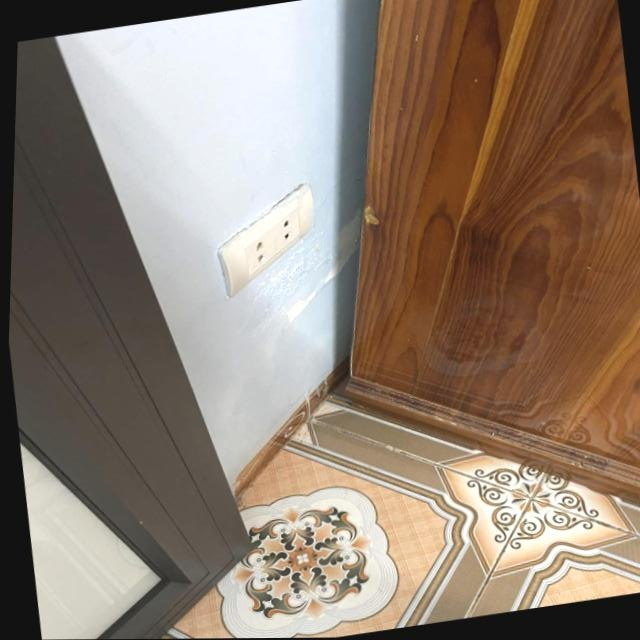outlet: (208, 182, 325, 300)
